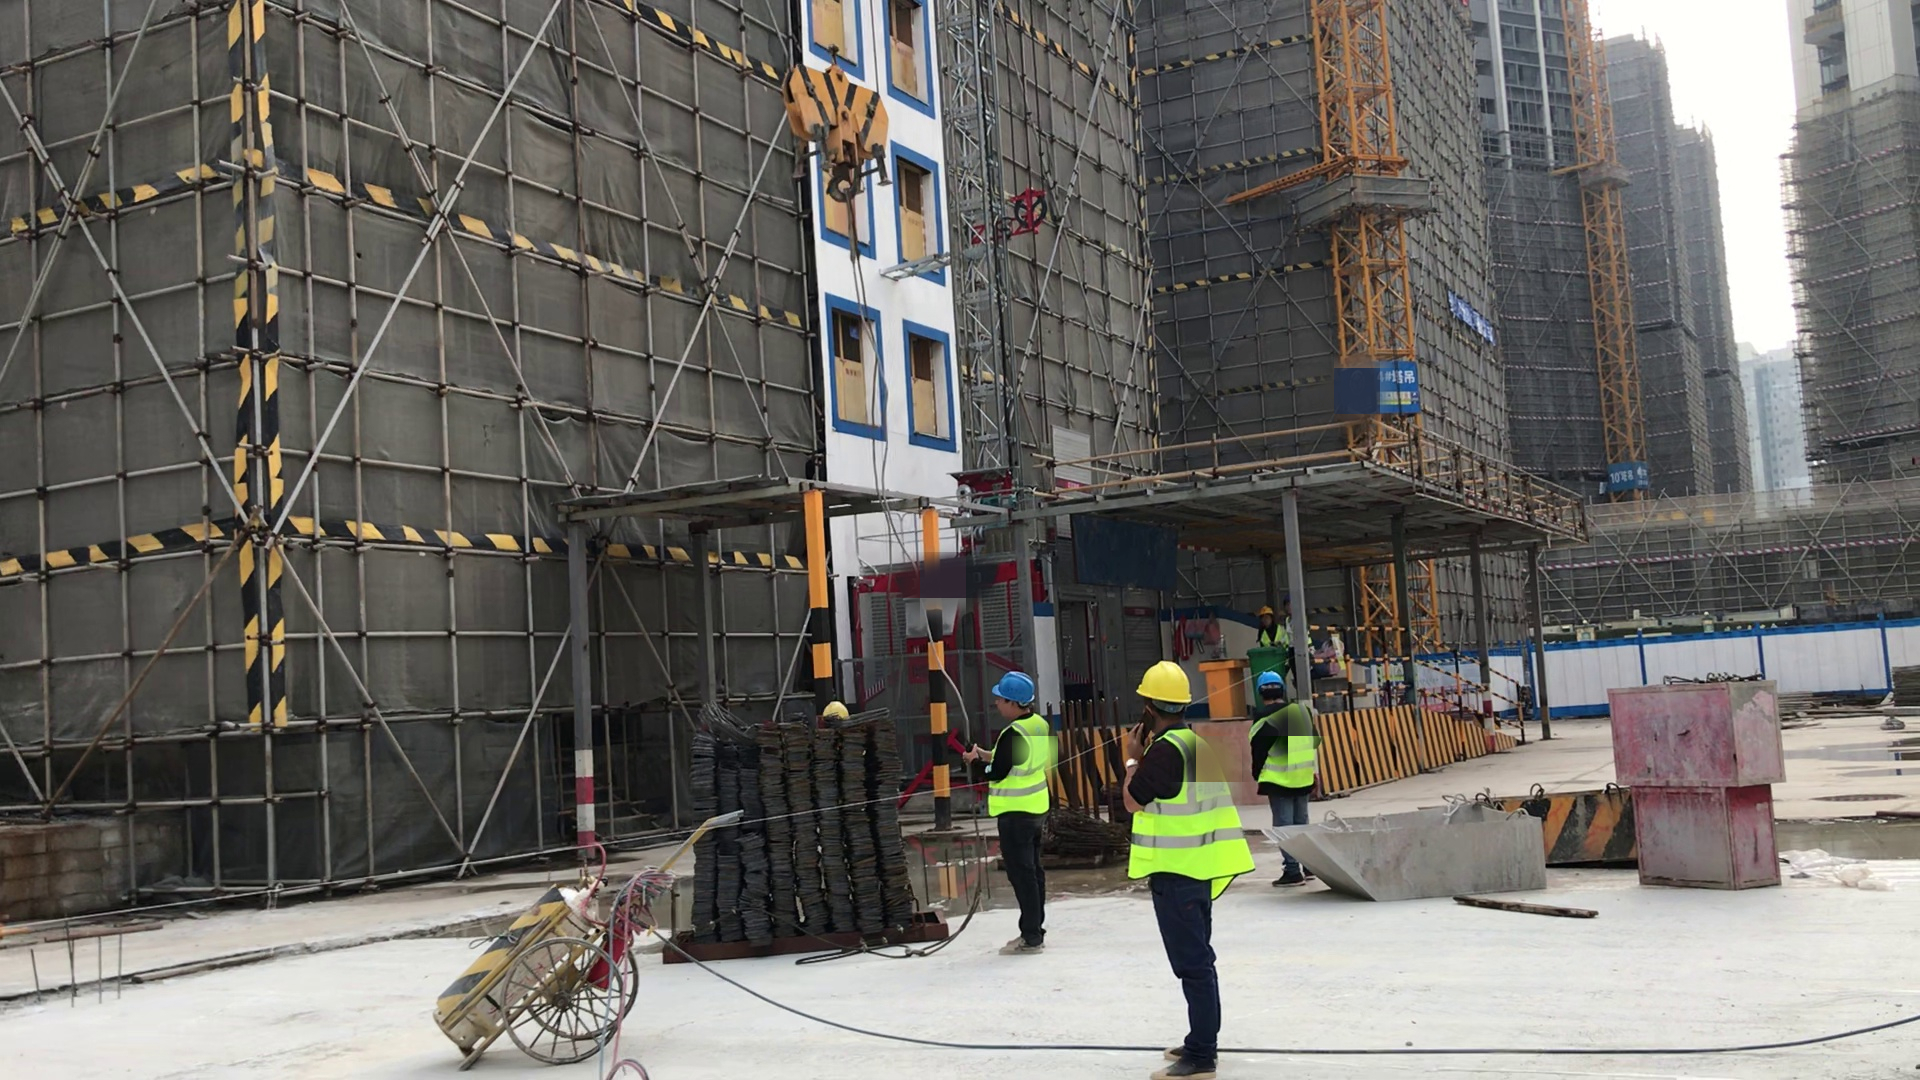helmet: (1132, 654, 1193, 710), (983, 669, 1048, 709), (1257, 668, 1284, 693), (1254, 601, 1274, 618)
person: (1115, 650, 1266, 1080), (961, 661, 1068, 966), (1250, 670, 1332, 900), (1251, 603, 1287, 655)
vest: (1130, 733, 1254, 899), (1252, 700, 1322, 804), (986, 719, 1056, 816), (1258, 622, 1288, 649)
